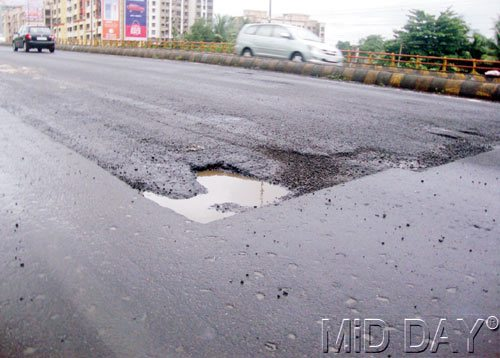pothole: (121, 148, 316, 246)
